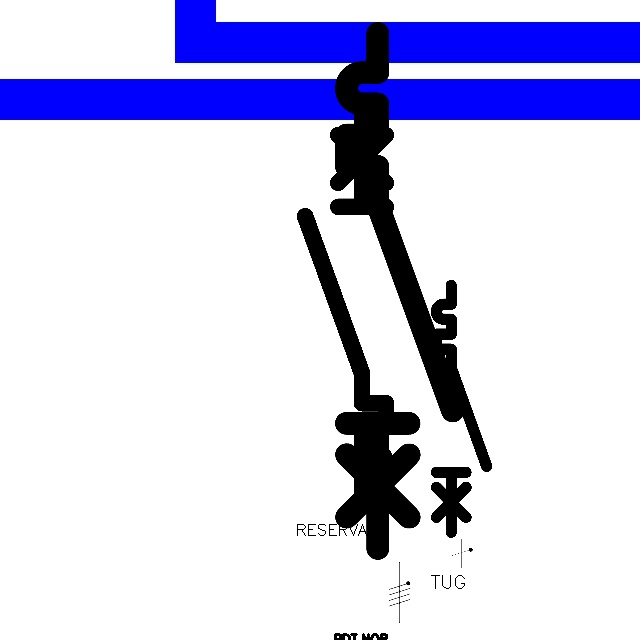interruptor_termomagnetico: (333, 20, 465, 562), (295, 101, 396, 515), (430, 279, 493, 539)
